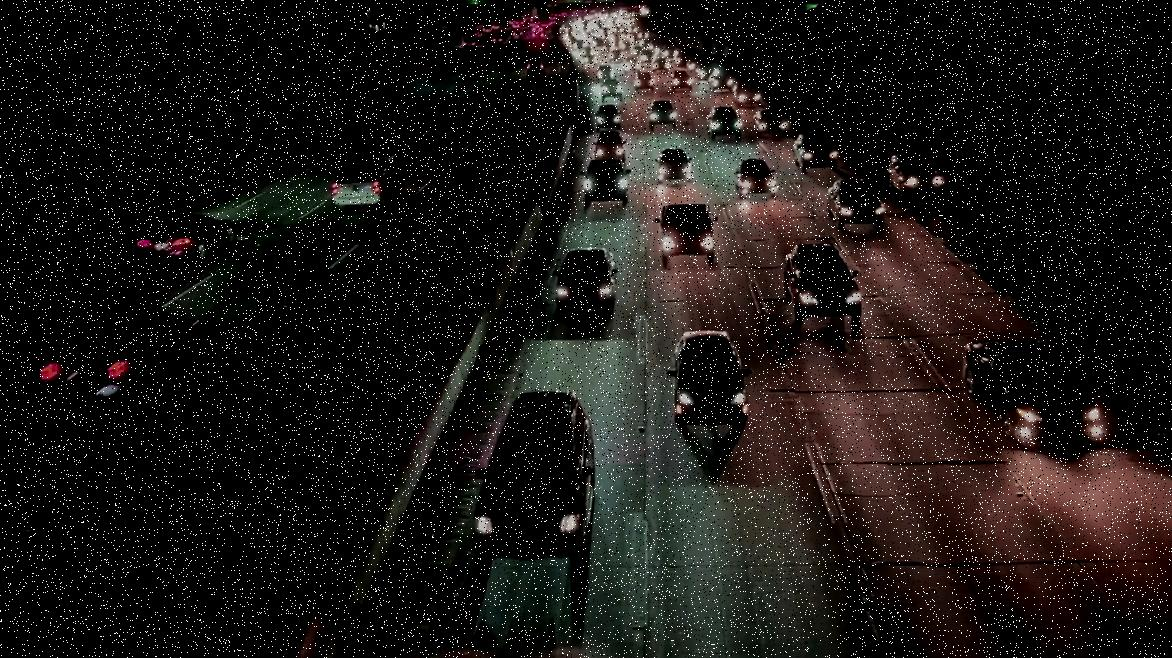car: (461, 382, 597, 566), (25, 310, 207, 412), (953, 338, 1105, 453), (768, 241, 870, 323), (672, 333, 746, 422), (549, 248, 628, 321), (648, 194, 719, 272), (138, 214, 243, 261), (327, 161, 403, 209), (882, 147, 958, 194), (821, 176, 888, 226), (584, 158, 632, 219), (649, 144, 697, 191), (737, 157, 777, 203), (793, 130, 836, 170), (700, 105, 746, 137), (748, 109, 792, 138), (594, 130, 630, 161), (644, 99, 678, 130), (595, 104, 622, 128), (668, 70, 697, 91), (600, 79, 626, 102), (632, 73, 658, 95), (526, 60, 547, 78)
